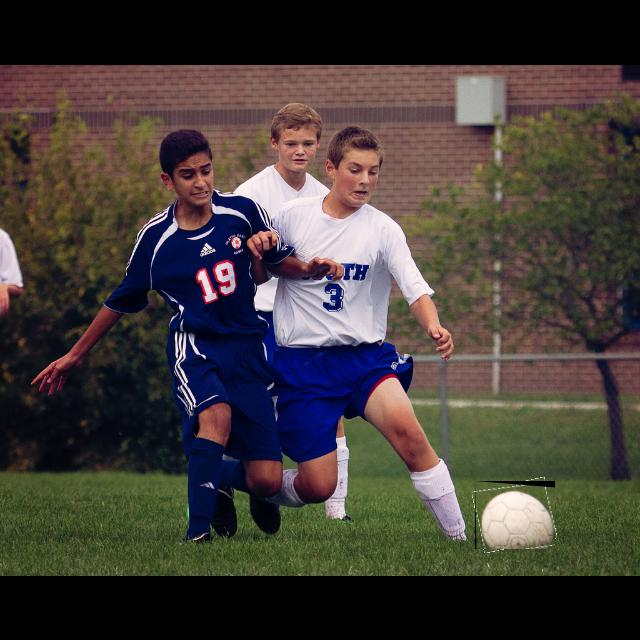Football: (475, 481, 555, 549)
